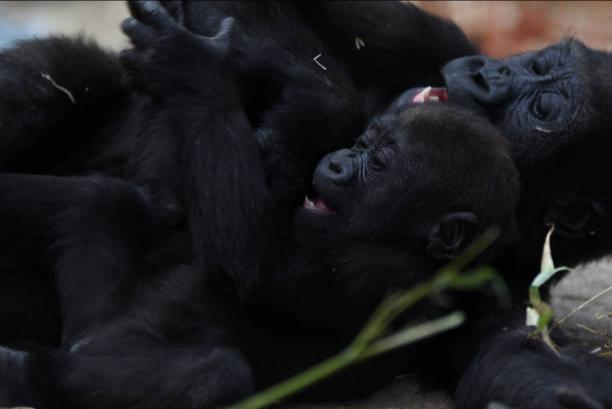gorille_Autres: (10, 0, 612, 398)
